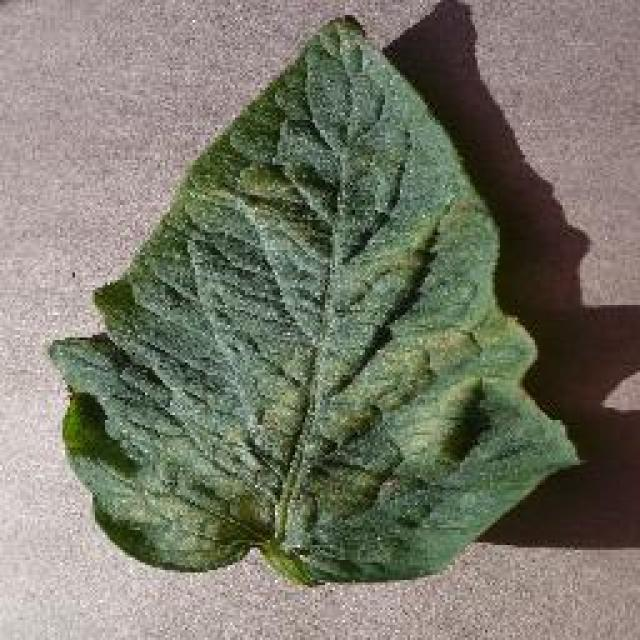Tom_Spider_mites Two-spotted_spider_mite: (202, 142, 414, 530)
